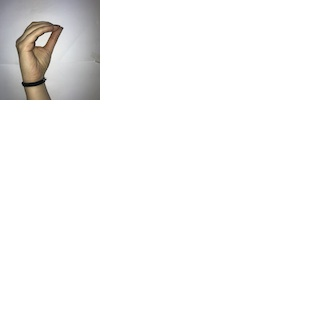rock: (11, 16, 64, 86)
